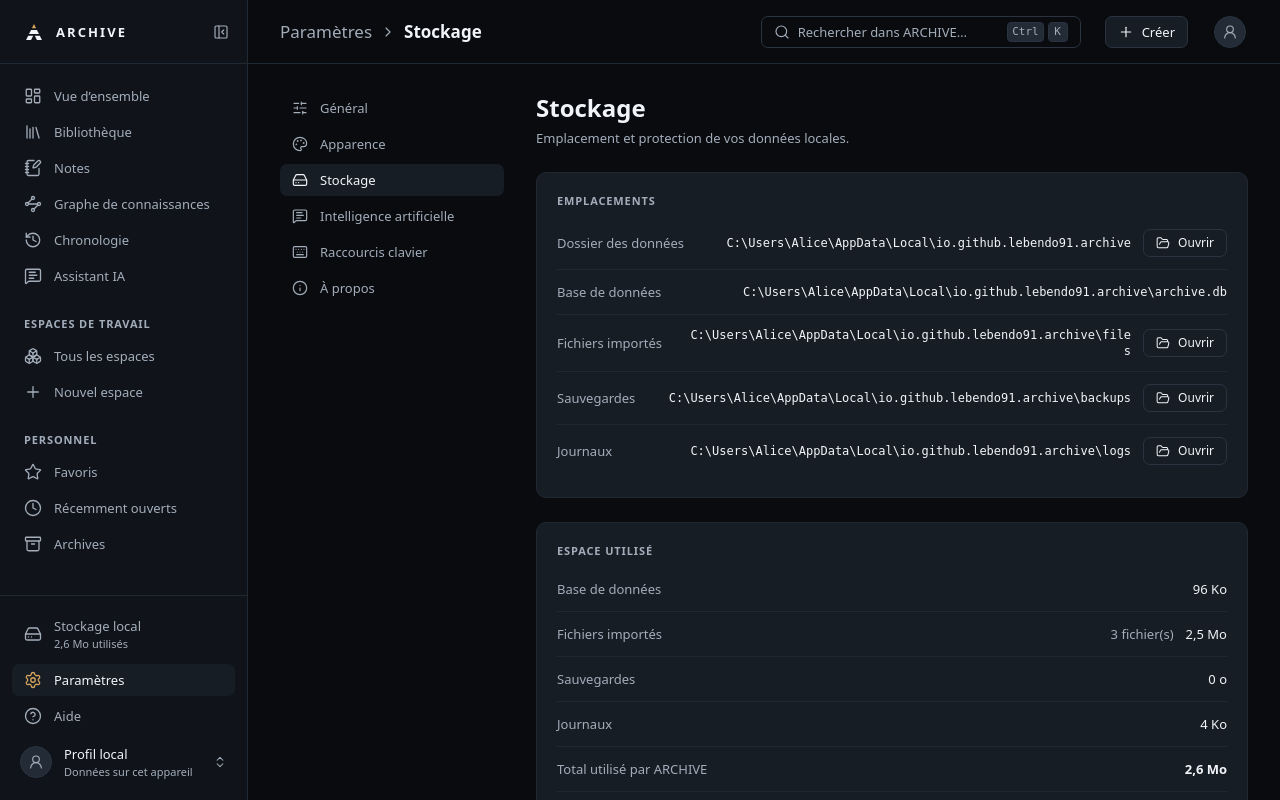
Test: settings › shows the real storage locations and sizes, opens folders and checks integrity
This screenshot has width=1280, height=800.
Expected: the text "C:\\Users\\Alice\\AppData\\Local\\io.github.lebendo91.archive" is shown, [726,235,1131,251]
Expected: the text "2,5 Mo" is shown, [1186,624,1227,644]
Click the 2nd button "Ouvrir". click: (1185, 343)
box: [1143,329,1227,357]
(page scrolled)
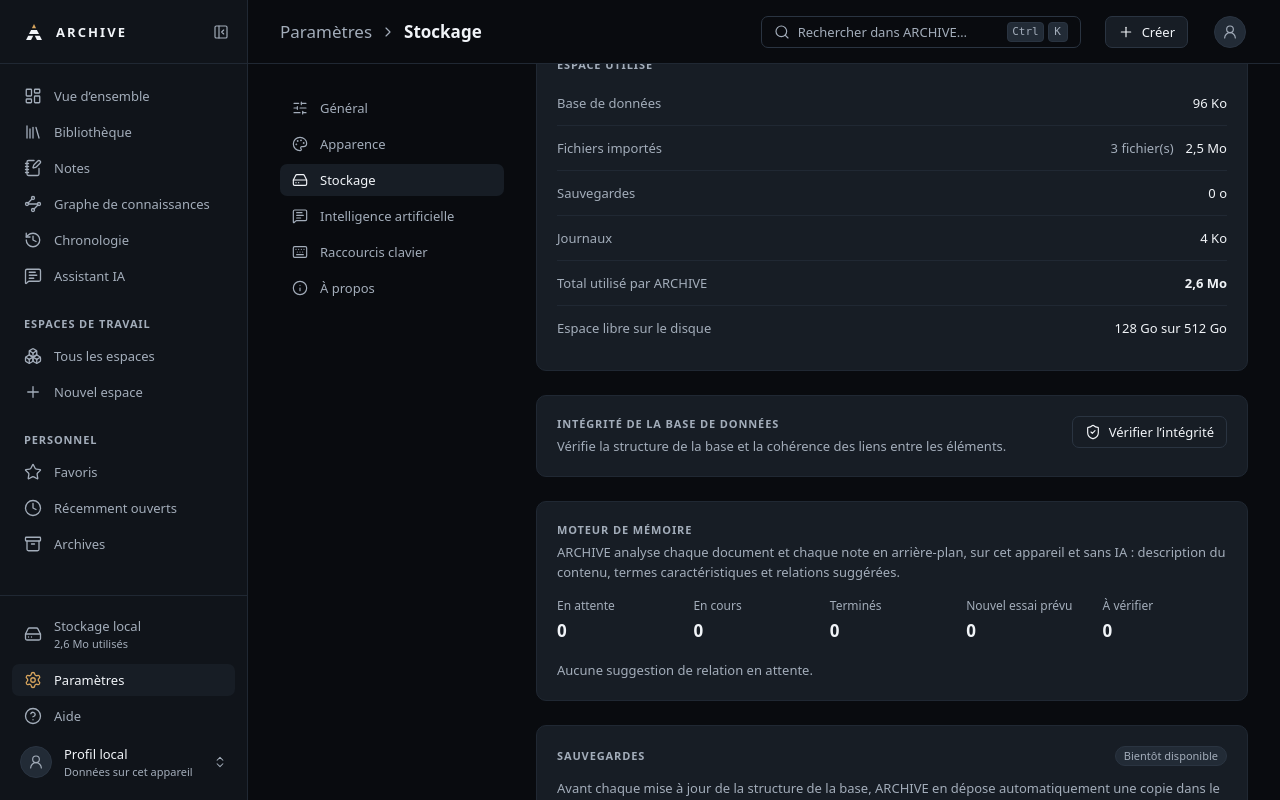
Click the button "Vérifier l’intégrité". click: (1149, 432)
box: [1072,416,1227,448]
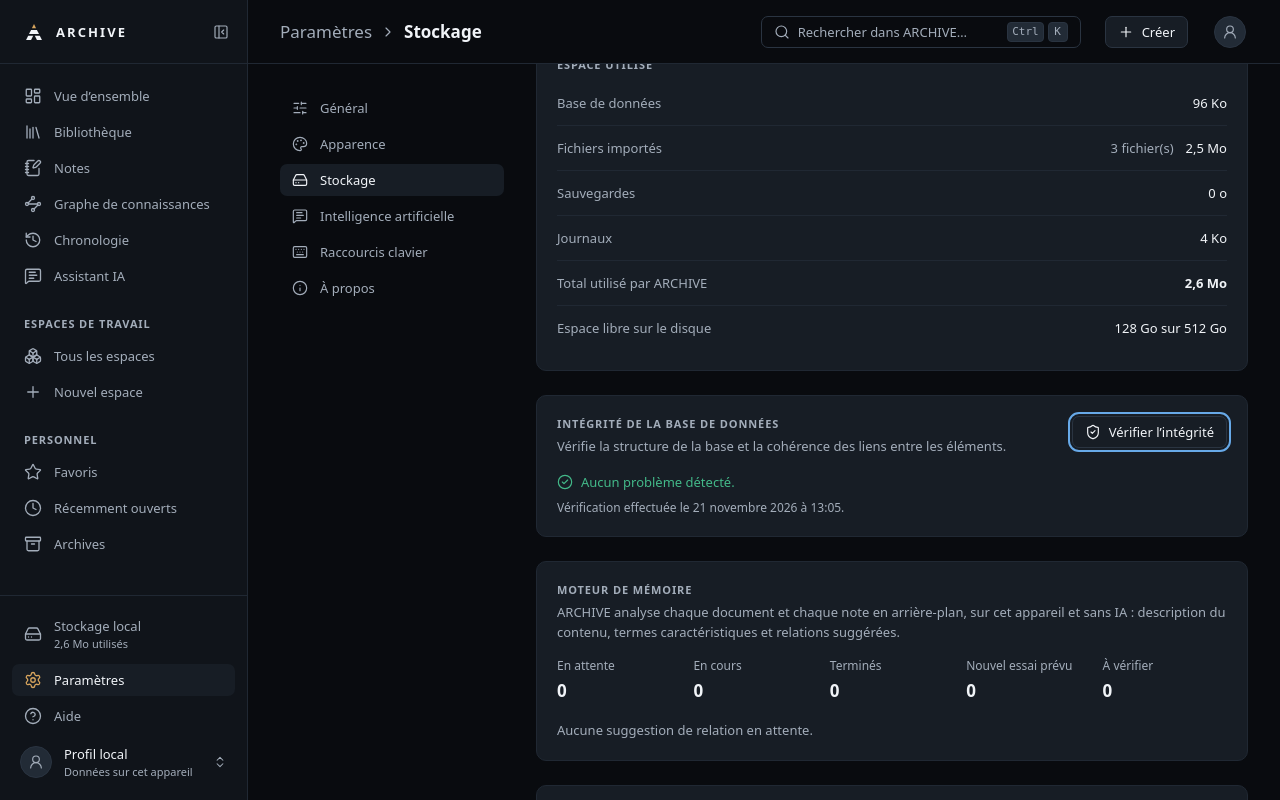
Expected: the text "Aucun problème détecté." is shown, [557,473,735,491]
